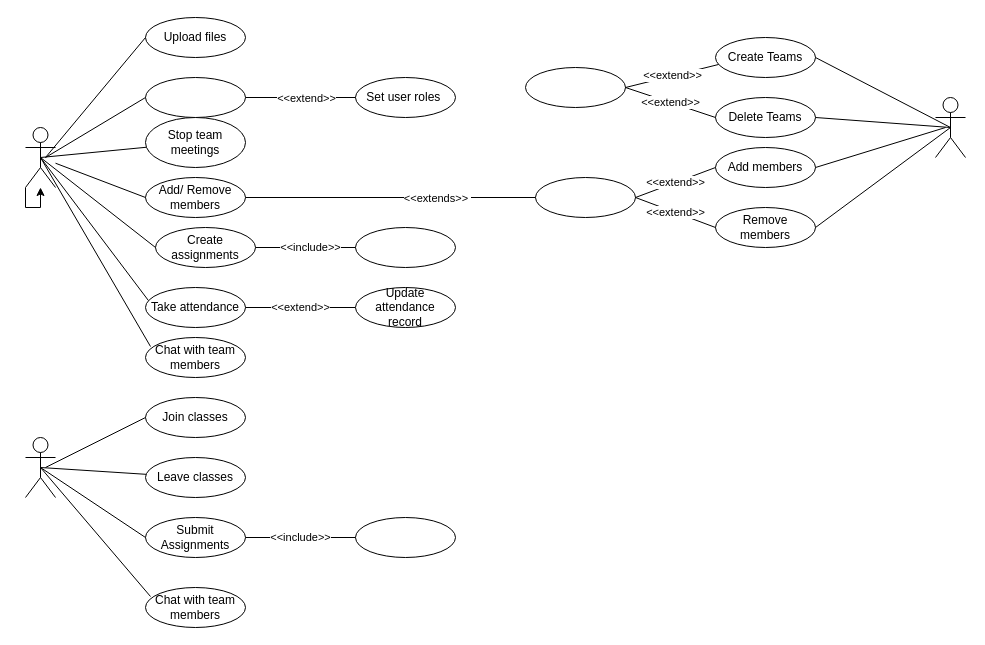
Some shapes in this 985 by 645 pixel diagram are drawn without their labels. Here are the shapes that lost their labels. From the top down, the centre of each, then its label:
the point at 195,97: Organize a team meeting
the point at 575,87: Update teams records
the point at 950,127: Admin
the point at 40,157: Teacher
the point at 585,197: Update members records
the point at 405,247: Set assignment due date
the point at 40,467: Students
the point at 405,537: Penalty for late submission
